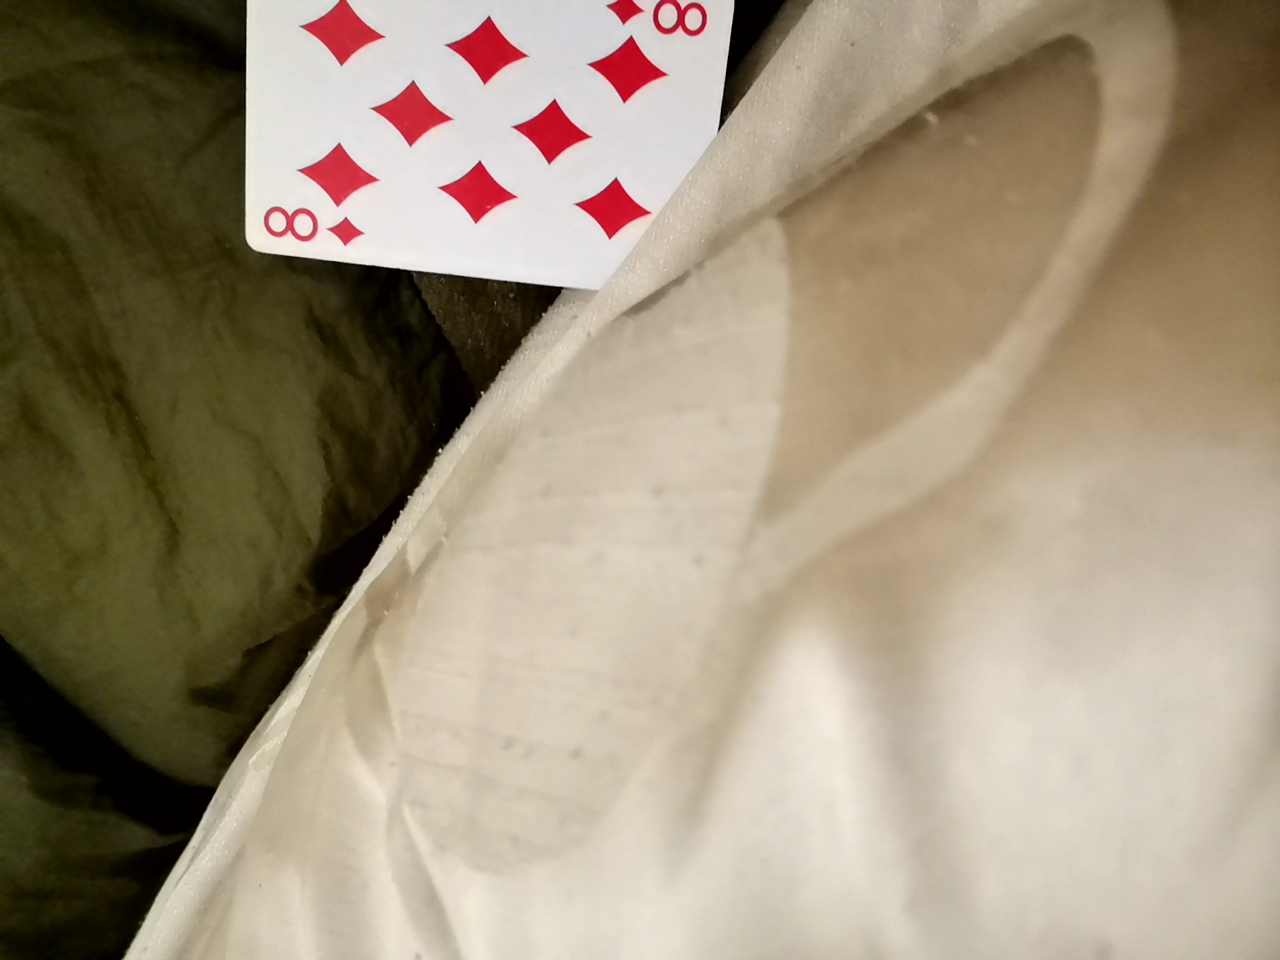fk 8: (228, 0, 753, 301)
